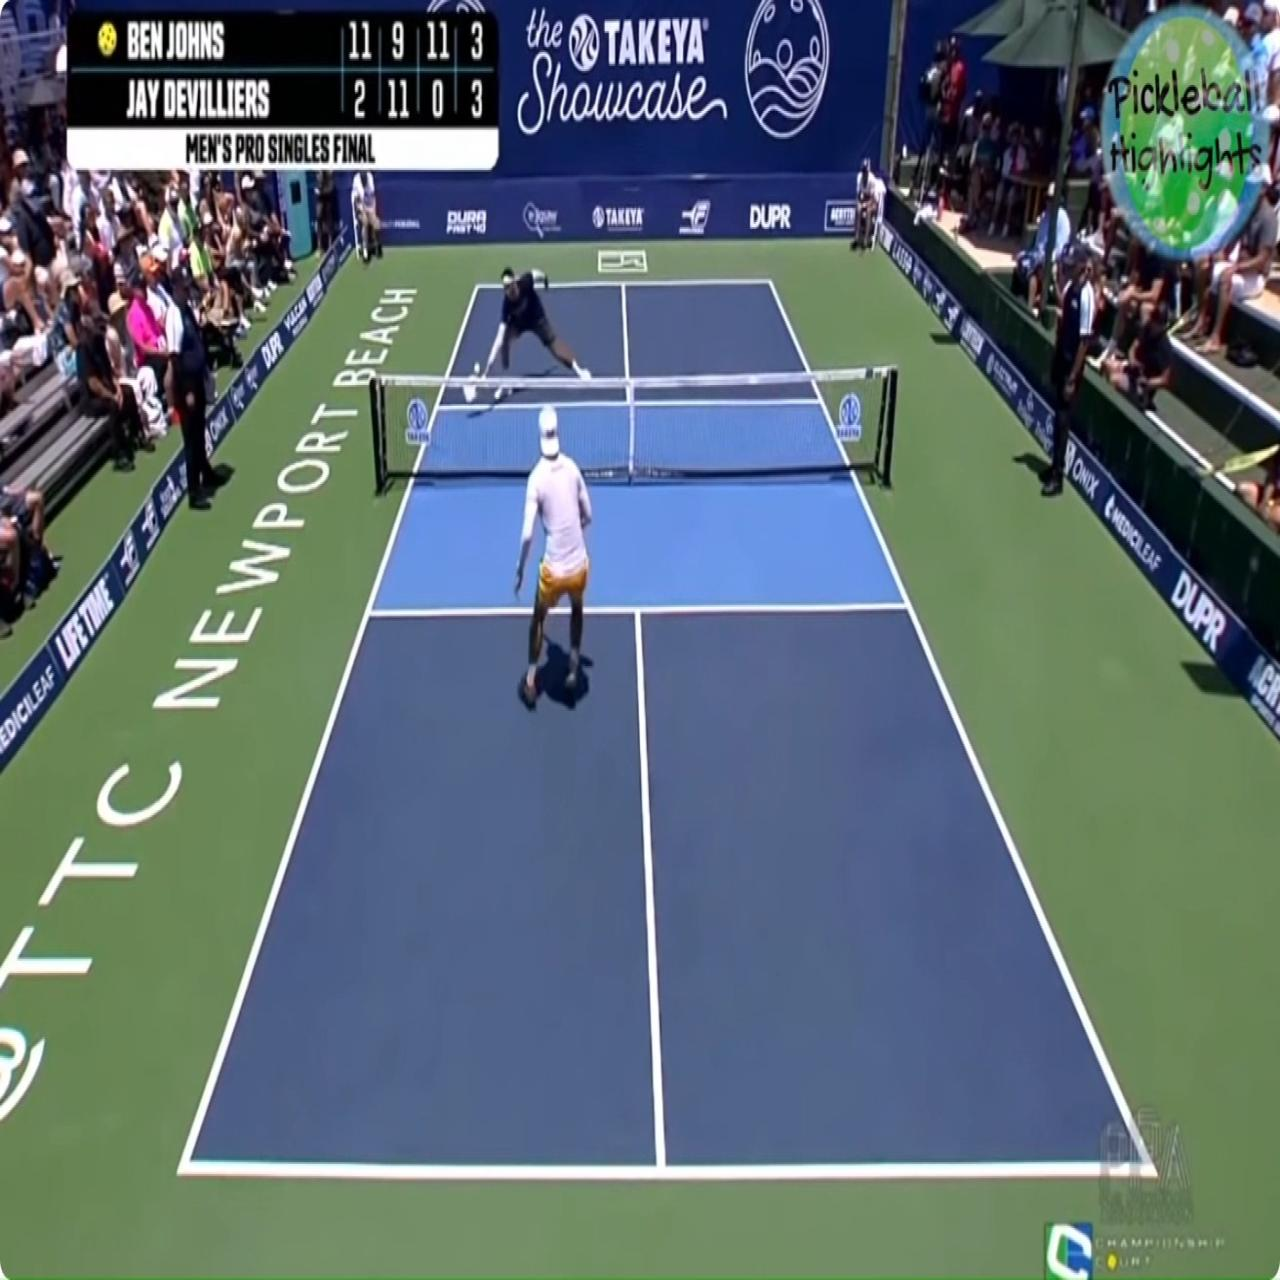pickleball: (474, 360, 481, 375)
